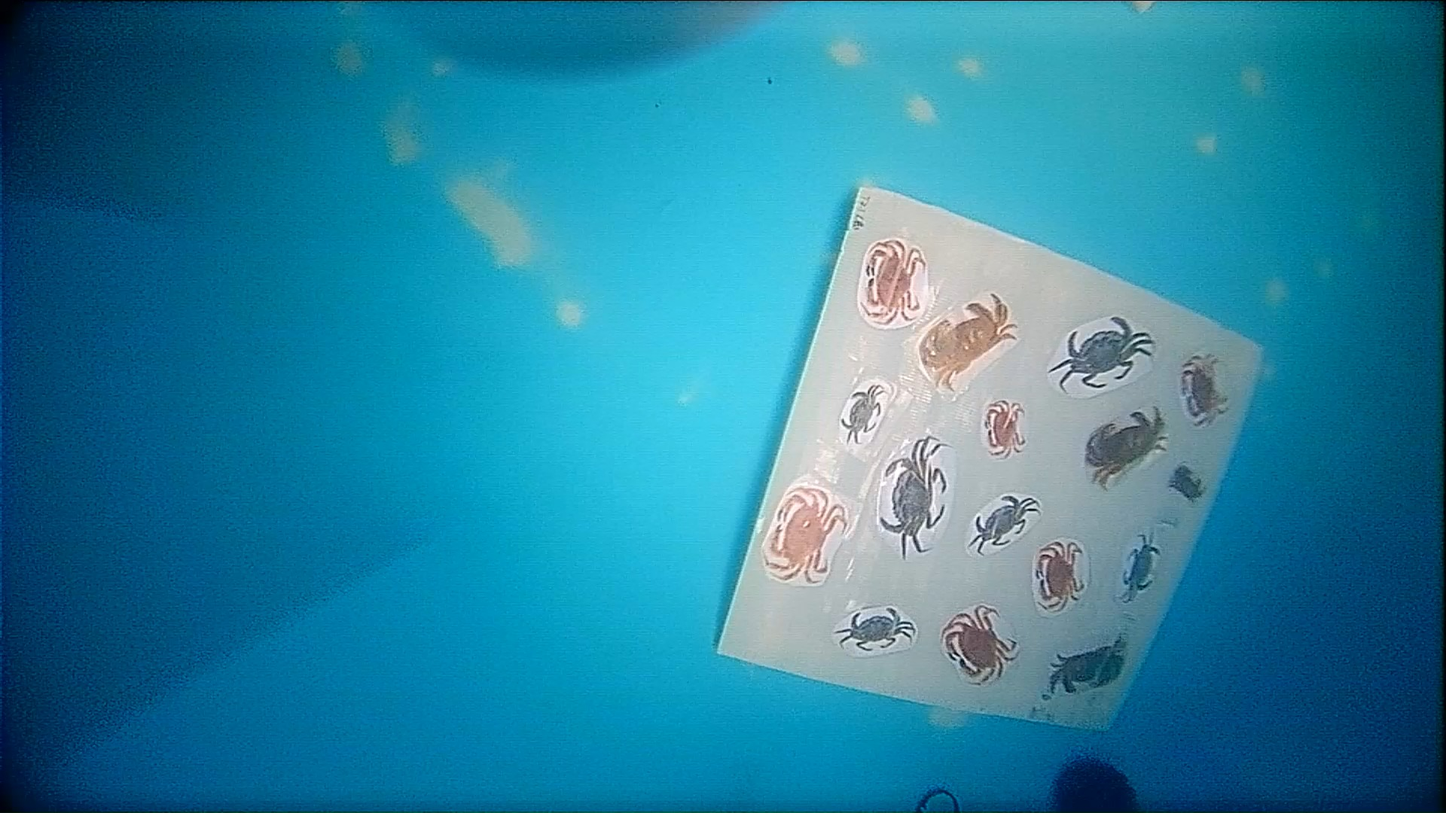GreenCrab: (880, 436, 947, 558), (1048, 316, 1153, 391), (972, 495, 1039, 552), (834, 608, 915, 650), (840, 385, 884, 442)
